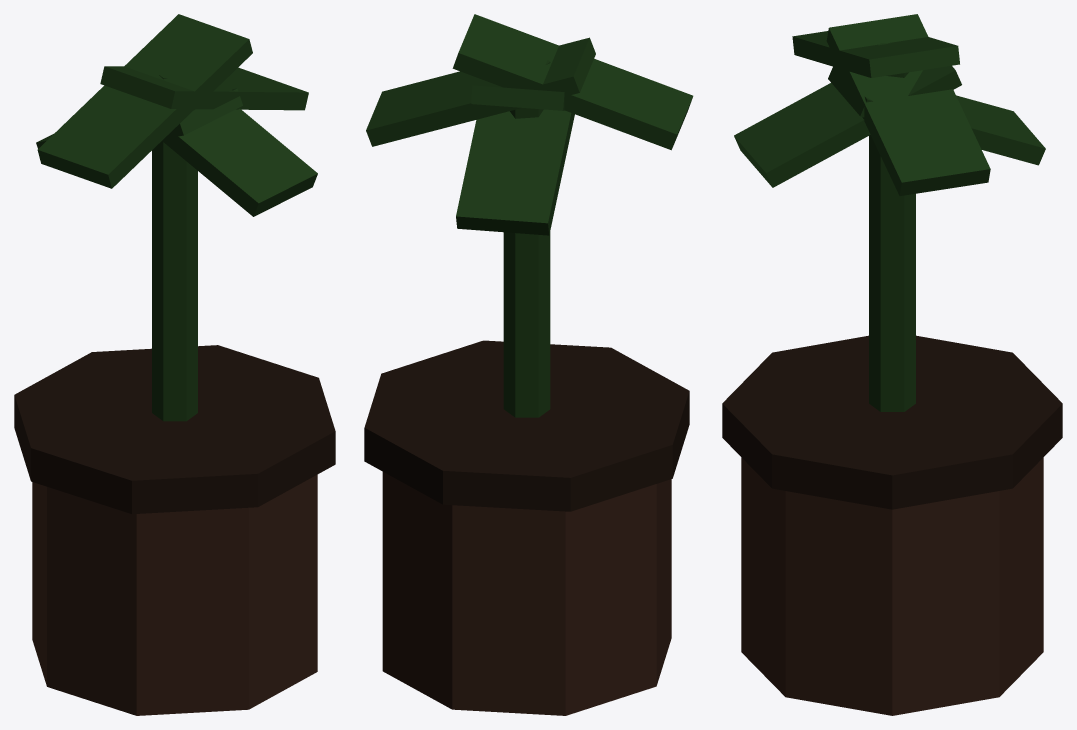
Rendered from welt_pflanze.glb.
3 renders of one model, left to right at view 1: azimuth 30°, elevation 25°; view 2: azimuth 150°, elevation 25°; view 3: azimuth 270°, elevation 25°, orthographic. The views are drawn at different scales.
Visible parts, largest first — view 1: topf, topf_rand, blatt_2, stamm, blatt_3, blatt_0, blatt_1; view 2: topf, topf_rand, blatt_2, blatt_1, stamm, blatt_0, blatt_3; view 3: topf, topf_rand, blatt_0, stamm, blatt_3, blatt_2, blatt_1.
Part boxes in pixels (<box>): topf: <box>32,474,317,715</box>; topf_rand: <box>14,345,335,514</box>; blatt_2: <box>37,14,252,188</box>; stamm: <box>152,75,197,421</box>; blatt_3: <box>162,109,317,216</box>; blatt_0: <box>100,66,308,110</box>; blatt_1: <box>36,88,242,148</box>; topf: <box>382,472,671,715</box>; topf_rand: <box>364,340,689,511</box>; blatt_2: <box>452,14,693,150</box>; blatt_1: <box>456,109,574,235</box>; stamm: <box>503,60,550,417</box>; blatt_0: <box>366,37,595,146</box>; blatt_3: <box>471,83,564,110</box>; topf: <box>741,457,1043,715</box>; topf_rand: <box>722,335,1062,509</box>; blatt_0: <box>826,14,990,195</box>; stamm: <box>869,43,915,411</box>; blatt_3: <box>734,65,961,187</box>; blatt_2: <box>792,31,959,77</box>; blatt_1: <box>828,66,1045,165</box>.
Bounding box in the file's own units: 0.36 × 0.7281 × 0.36.
